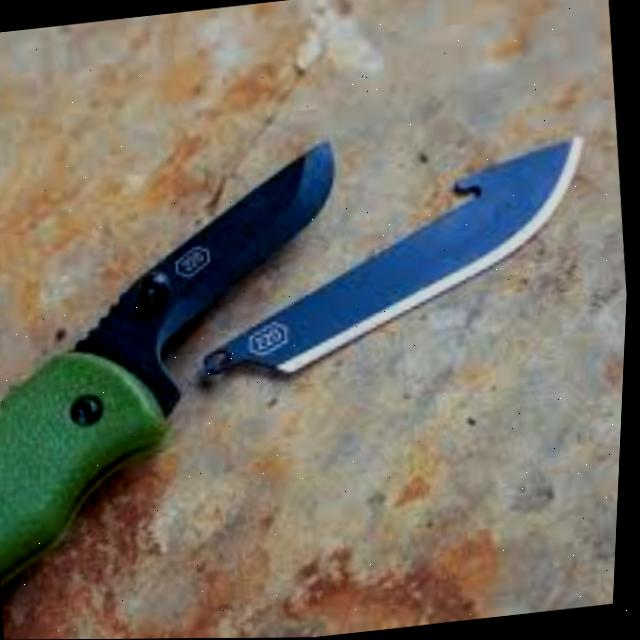knife: (0, 136, 380, 616), (182, 132, 605, 387)
